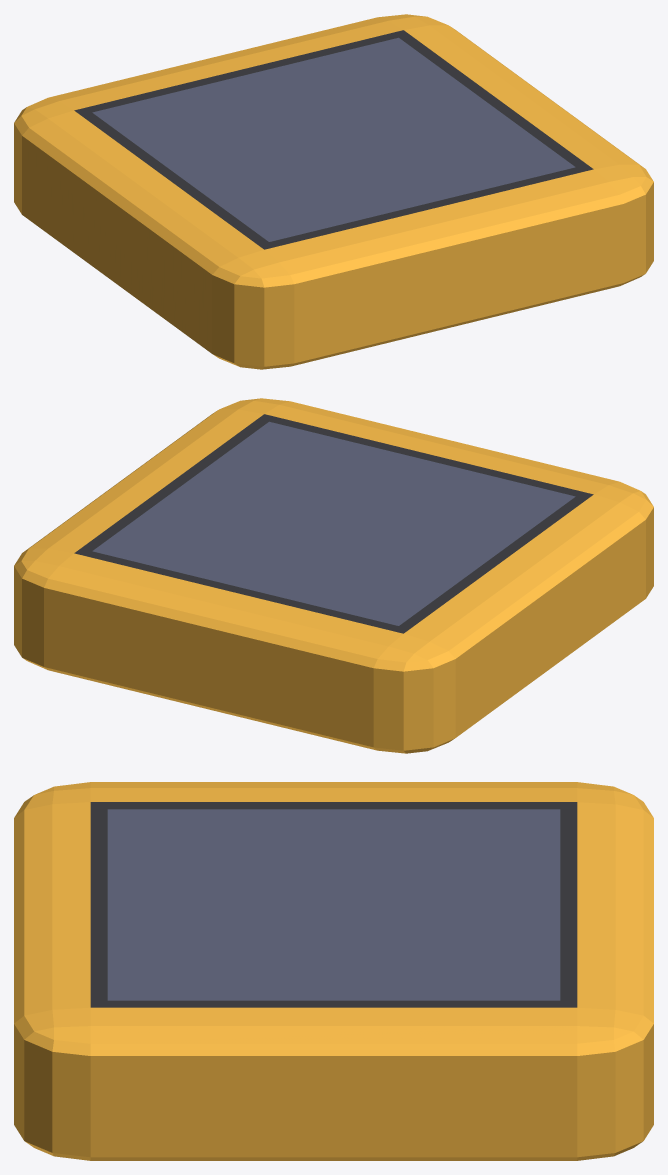
Rendered from PlataformNormal.glb.
3 views of the same model, one above another, from view 1: azimuth 30°, elevation 25°; view 2: azimuth 150°, elevation 25°; view 3: azimuth 270°, elevation 25° (orthographic). The views are drawn at different scales.
Parts seen in each view (by area): view 1: Cube; view 2: Cube; view 3: Cube.
Boxes of the visible parts, x1,y1,x2,y2 form: Cube: [14, 14, 653, 369]; Cube: [14, 398, 653, 753]; Cube: [14, 782, 653, 1160].
Bounding box in the file's own units: 6.35 × 1.46 × 6.35.
